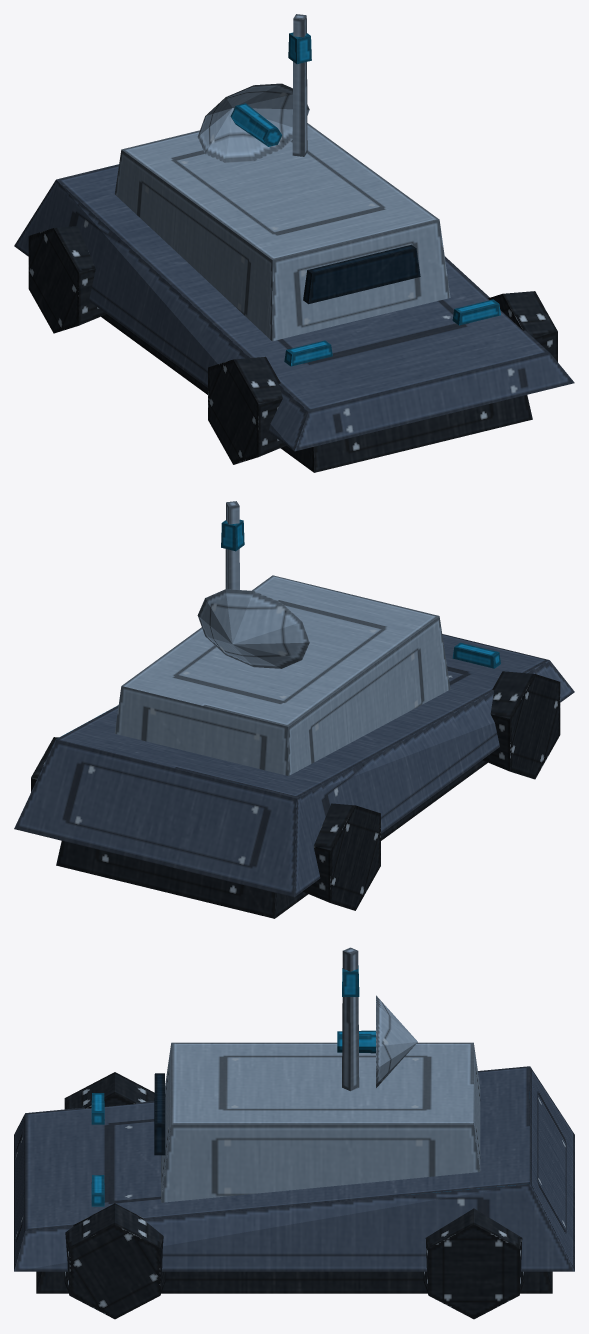
The model's file is unit-command_vehicle.fbx.
3 views of the same model, one above another, from view 1: azimuth 30°, elevation 25°; view 2: azimuth 150°, elevation 25°; view 3: azimuth 270°, elevation 25° (orthographic).
Visible parts, largest first — view 1: unit-command_vehicle; view 2: unit-command_vehicle; view 3: unit-command_vehicle.
Boxes of the visible parts, x1,y1,x2,y2 form: unit-command_vehicle: (14,14,574,472); unit-command_vehicle: (14,501,574,918); unit-command_vehicle: (14,947,574,1319).
Size of the model in its own units: 323 by 324 by 520.
1 material, 1 textured.
